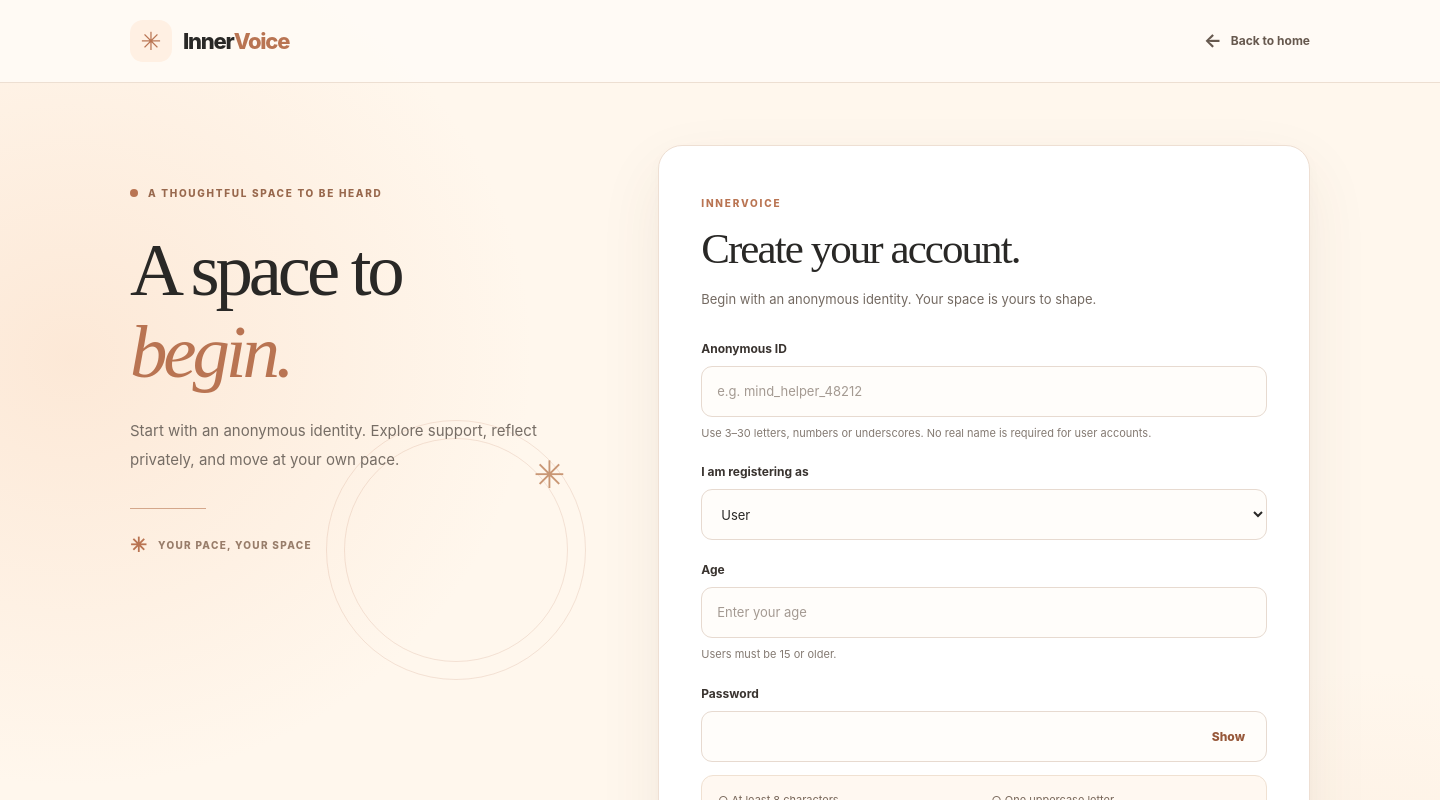
Test: InnerVoice — Public & Authentication › 06 - expert role displays professional fields
Select "Expert" in the dropdown with id "role" at (984, 516), box [701, 490, 1267, 541]
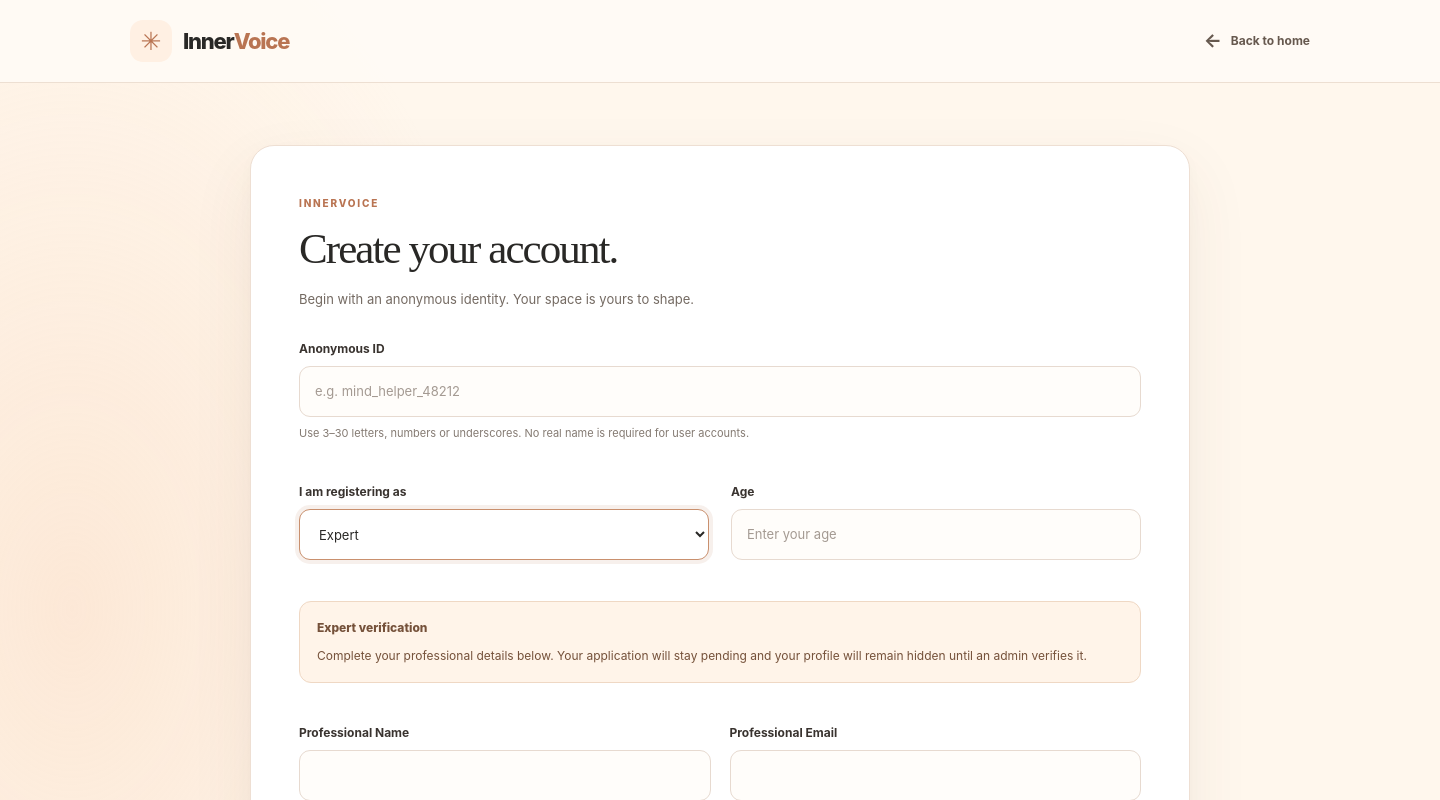
Expected: the field labelled "Professional Name" is shown, [299, 750, 710, 799]
Expected: the field labelled "Professional Email" is shown, [730, 750, 1141, 799]
